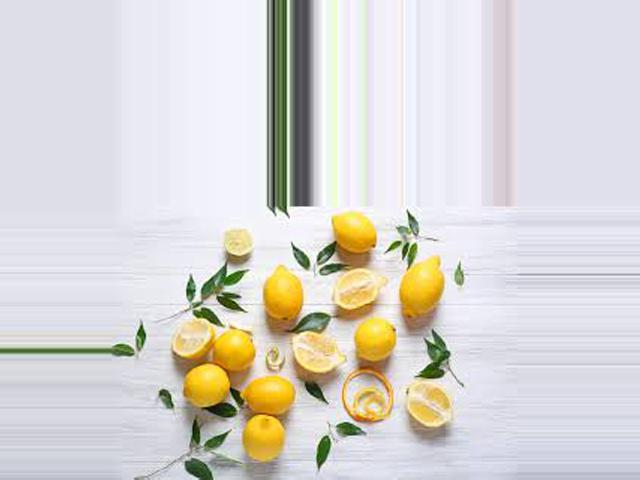lemon: (234, 410, 297, 457)
